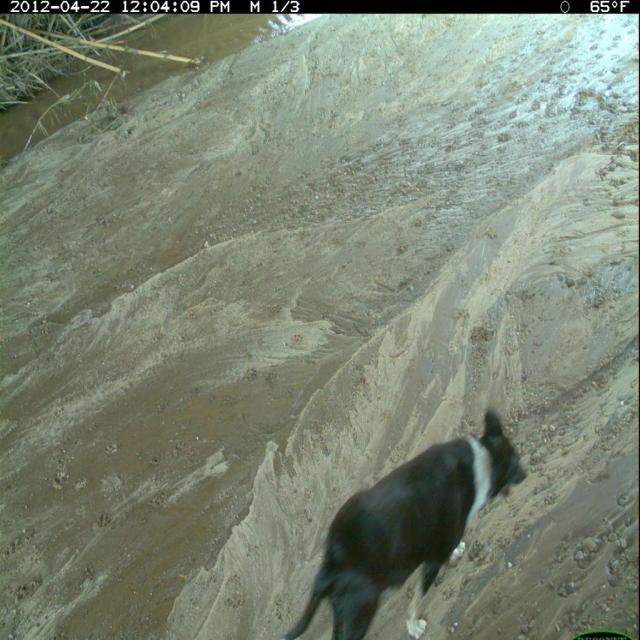dog: (269, 401, 531, 640)
